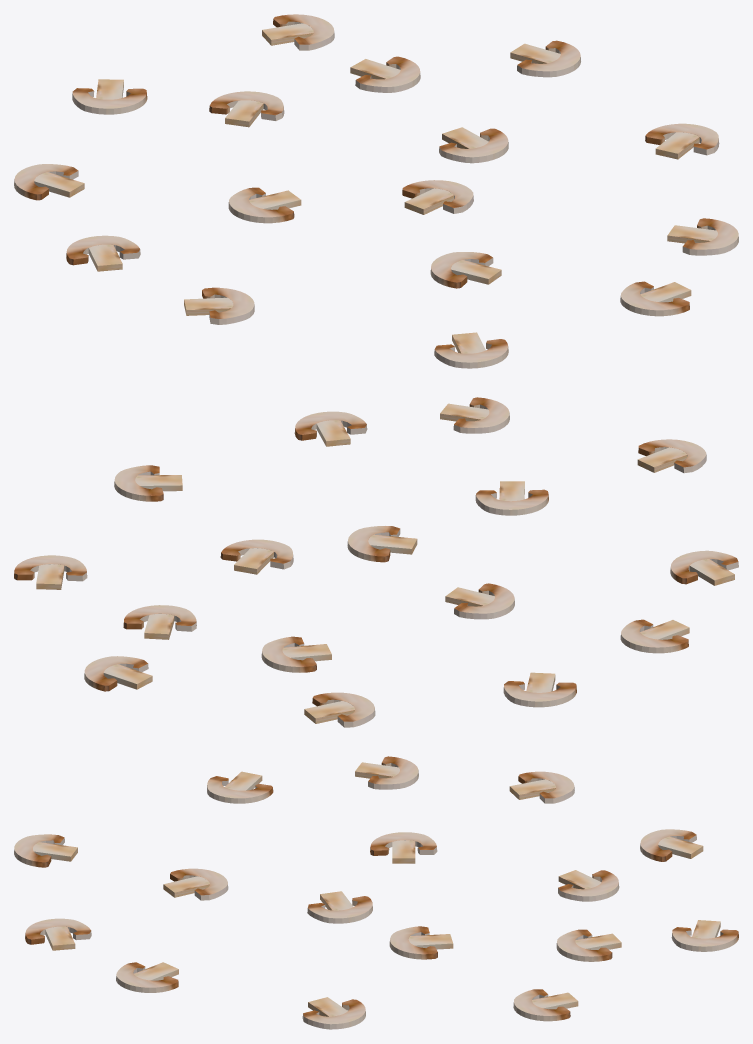
The model's file is champignon_op_pizza.glb.
3 renders of one model, top to bottom at view 1: azimuth 30°, elevation 25°; view 2: azimuth 150°, elevation 25°; view 3: azimuth 270°, elevation 25°, orthographic. The views are drawn at different scales.
Visible parts, largest first — view 1: Sphere.014, Sphere.011, Sphere.003, Sphere.017, Sphere.001, Sphere.013, Sphere.008, Sphere.006, Sphere.015, Sphere.010, Sphere.004, Sphere.007 (+18 smaller); view 2: Sphere.009, Sphere.005, Sphere.016, Sphere.001, Sphere.017, Sphere.004, Sphere.007, Sphere.014, Sphere.012, Sphere.008, Sphere.003, Sphere.013 (+18 smaller); view 3: Sphere.010, Sphere.015, Sphere.012, Sphere.007, Sphere.006, Sphere.004, Sphere.008, Sphere.013, Sphere.016, Sphere.003, Sphere.009, Sphere.011 (+20 smaller).
Part boxes in pixels (left/top/right/bottom): Sphere.014: left=72, top=88, right=147, bottom=114; Sphere.011: left=434, top=339, right=508, bottom=368; Sphere.003: left=439, top=128, right=508, bottom=163; Sphere.017: left=620, top=281, right=689, bottom=316; Sphere.001: left=228, top=187, right=294, bottom=223; Sphere.013: left=355, top=56, right=420, bottom=92; Sphere.008: left=517, top=40, right=580, bottom=77; Sphere.006: left=682, top=218, right=738, bottom=255; Sphere.015: left=273, top=14, right=334, bottom=50; Sphere.010: left=202, top=287, right=254, bottom=324; Sphere.004: left=209, top=91, right=284, bottom=120; Sphere.007: left=645, top=123, right=719, bottom=155; Sphere.009: left=503, top=681, right=576, bottom=707; Sphere.005: left=475, top=489, right=548, bottom=515; Sphere.016: left=620, top=619, right=688, bottom=653; Sphere.001: left=454, top=583, right=514, bottom=619; Sphere.017: left=453, top=397, right=509, bottom=433; Sphere.004: left=261, top=636, right=316, bottom=672; Sphere.007: left=114, top=465, right=163, bottom=501; Sphere.014: left=312, top=692, right=375, bottom=727; Sphere.012: left=347, top=526, right=400, bottom=562; Sphere.008: left=14, top=555, right=87, bottom=581; Sphere.003: left=220, top=539, right=293, bottom=569; Sphere.013: left=123, top=605, right=196, bottom=631; Sphere.010: left=207, top=776, right=273, bottom=803; Sphere.015: left=671, top=927, right=738, bottom=951; Sphere.012: left=307, top=896, right=372, bottom=923; Sphere.007: left=302, top=999, right=365, bottom=1029; Sphere.006: left=116, top=962, right=178, bottom=992; Sphere.004: left=558, top=870, right=619, bottom=901; Sphere.008: left=513, top=989, right=570, bottom=1021; Sphere.013: left=556, top=929, right=612, bottom=961; Sphere.016: left=368, top=756, right=418, bottom=789; Sphere.003: left=389, top=926, right=437, bottom=959; Sphere.009: left=518, top=771, right=574, bottom=803; Sphere.011: left=14, top=834, right=64, bottom=867.
Bounding box in the file's own units: 1.92 × 0.0173 × 2.2.
Materials: 34 (34 with a texture image).
